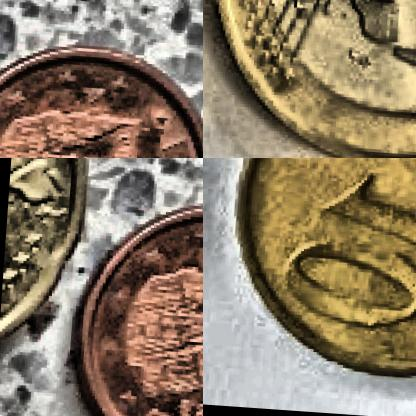coin: (226, 158, 415, 393), (203, 0, 415, 157), (71, 194, 202, 415), (0, 30, 202, 157)
